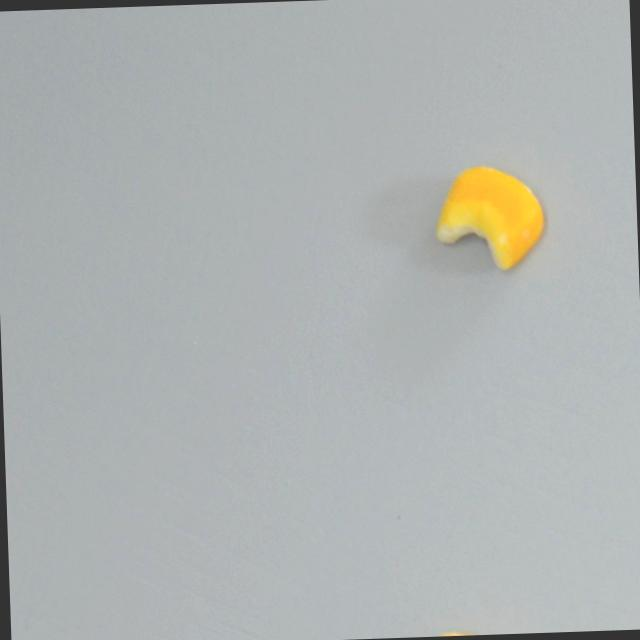no_canjicado: (431, 162, 544, 273)
